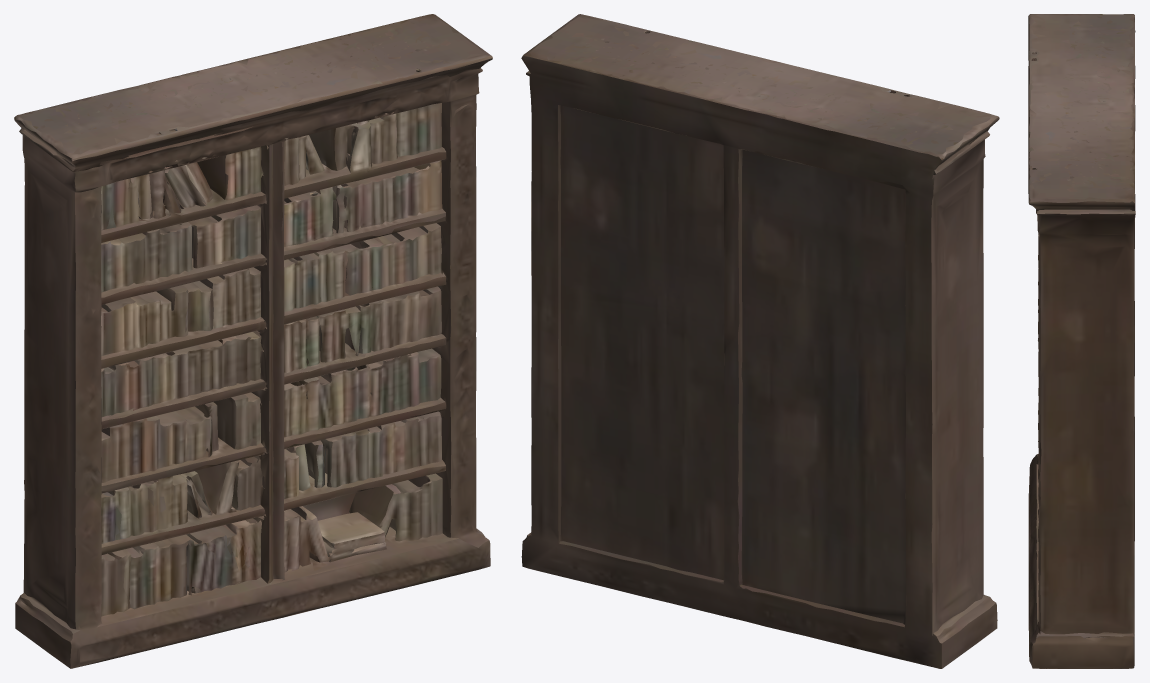
The model's file is lantern-bookshelf-opt.glb.
3 renders of one model, left to right at view 1: azimuth 30°, elevation 25°; view 2: azimuth 150°, elevation 25°; view 3: azimuth 270°, elevation 25°, orthographic. The views are drawn at different scales.
Visible parts, largest first — view 1: geometry_0; view 2: geometry_0; view 3: geometry_0.
Boxes of the visible parts, x1,y1,x2,y2 form: geometry_0: [14, 14, 492, 668]; geometry_0: [521, 14, 999, 668]; geometry_0: [1028, 14, 1135, 668].
Size of the model in its own units: 2.06 by 2.4 by 0.4986.
1 material, 1 textured.
